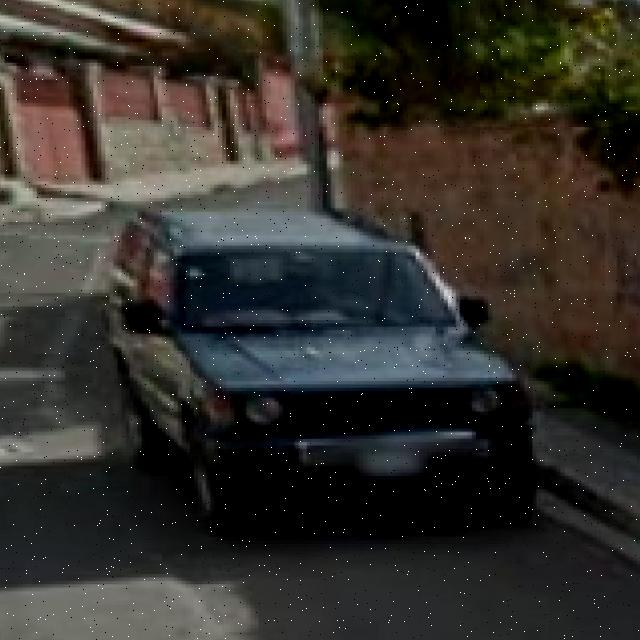car: (113, 183, 520, 520)
